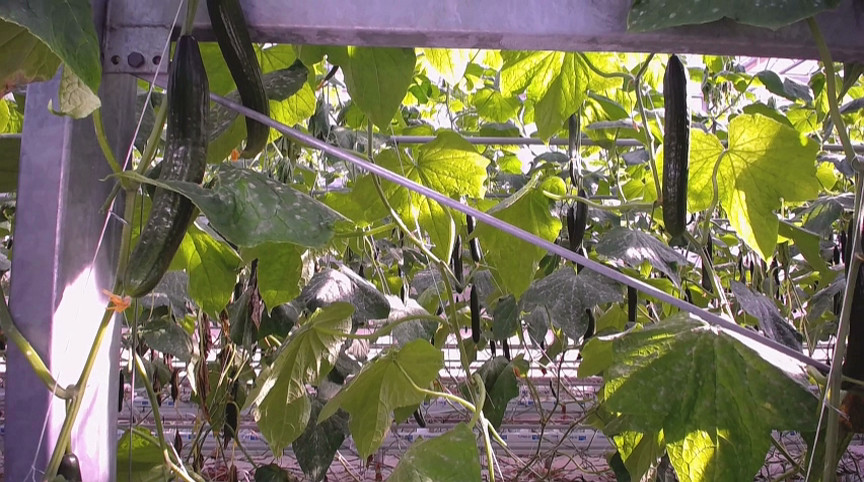cucumber: (124, 32, 208, 299), (207, 2, 270, 158), (662, 56, 689, 237), (466, 213, 481, 263), (452, 235, 465, 291), (470, 286, 480, 343), (627, 284, 638, 327)
